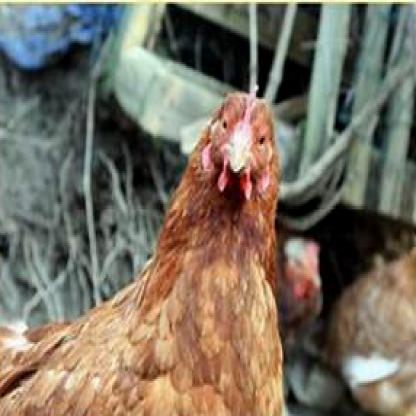chicken: (0, 93, 287, 414)
